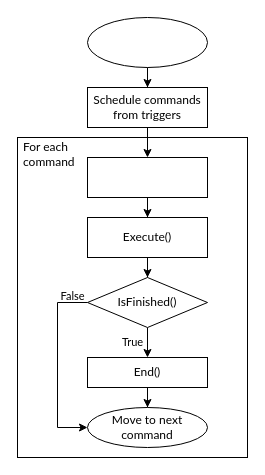
The diagram is 265 pixels wide and 475 high, and some of its shapes have lost their labels. The box of each missing label's shape, as (x1, y1, x2, y2) in pixels:
Initialize(): (86, 156, 208, 198)
Subsystem periodic(): (86, 16, 208, 68)
